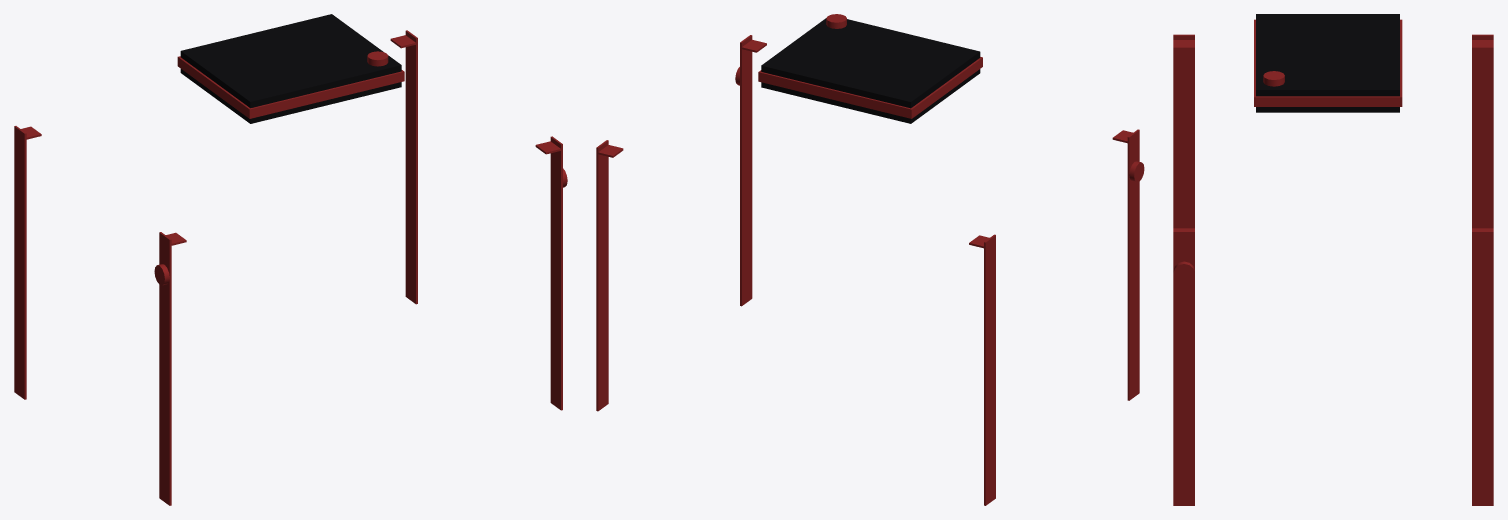
The model's file is z05_seal.obj.
3 views of the same model, side by side, from view 1: azimuth 30°, elevation 25°; view 2: azimuth 150°, elevation 25°; view 3: azimuth 270°, elevation 25° (orthographic). The views are drawn at different scales.
Parts seen in each view (by area): view 1: z05_seal; view 2: z05_seal; view 3: z05_seal.
Boxes of the visible parts, <box> form: z05_seal: <box>14,14,567,505</box>; z05_seal: <box>596,14,1144,505</box>; z05_seal: <box>1173,14,1493,505</box>.
Size of the model in its own units: 1.33 by 1.11 by 0.89.
